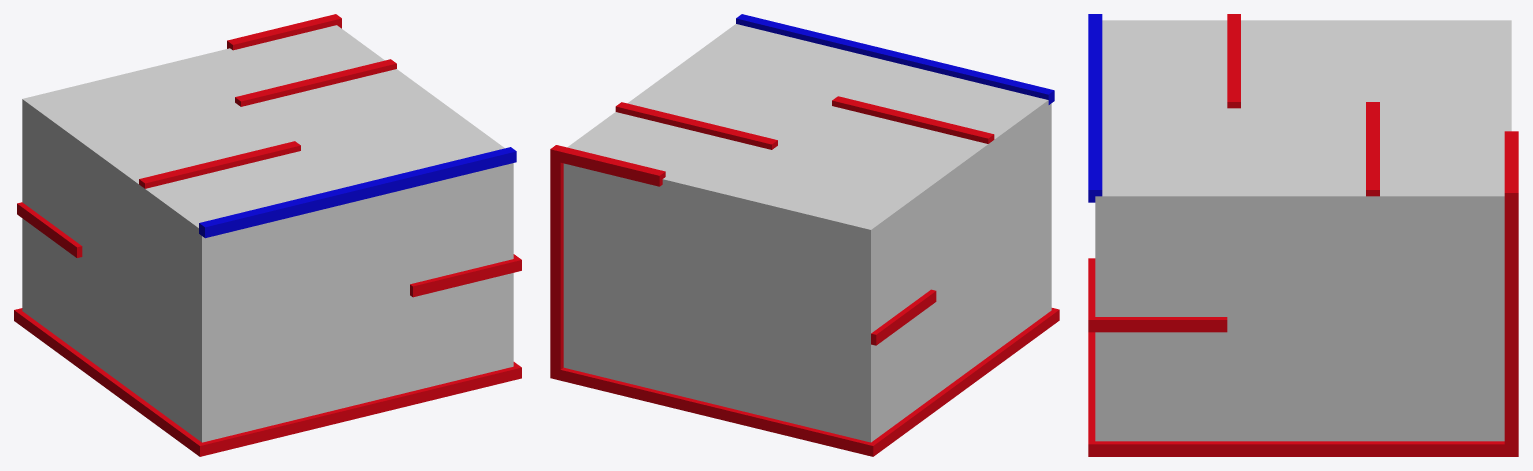
The model's file is level_0.fbx.
The picture shows the model from 3 angles, left to right: view 1: azimuth 30°, elevation 25°; view 2: azimuth 150°, elevation 25°; view 3: azimuth 270°, elevation 25°; orthographic projection. The views are drawn at different scales.
Parts seen in each view (by area): view 1: 立方体.003; view 2: 立方体.003; view 3: 立方体.003.
Boxes of the visible parts, left/top/right/bottom form: 立方体.003: left=14, top=14, right=521, bottom=456; 立方体.003: left=550, top=14, right=1059, bottom=456; 立方体.003: left=1088, top=14, right=1518, bottom=456.
Bounding box in the file's own units: 620 × 420 × 620.
